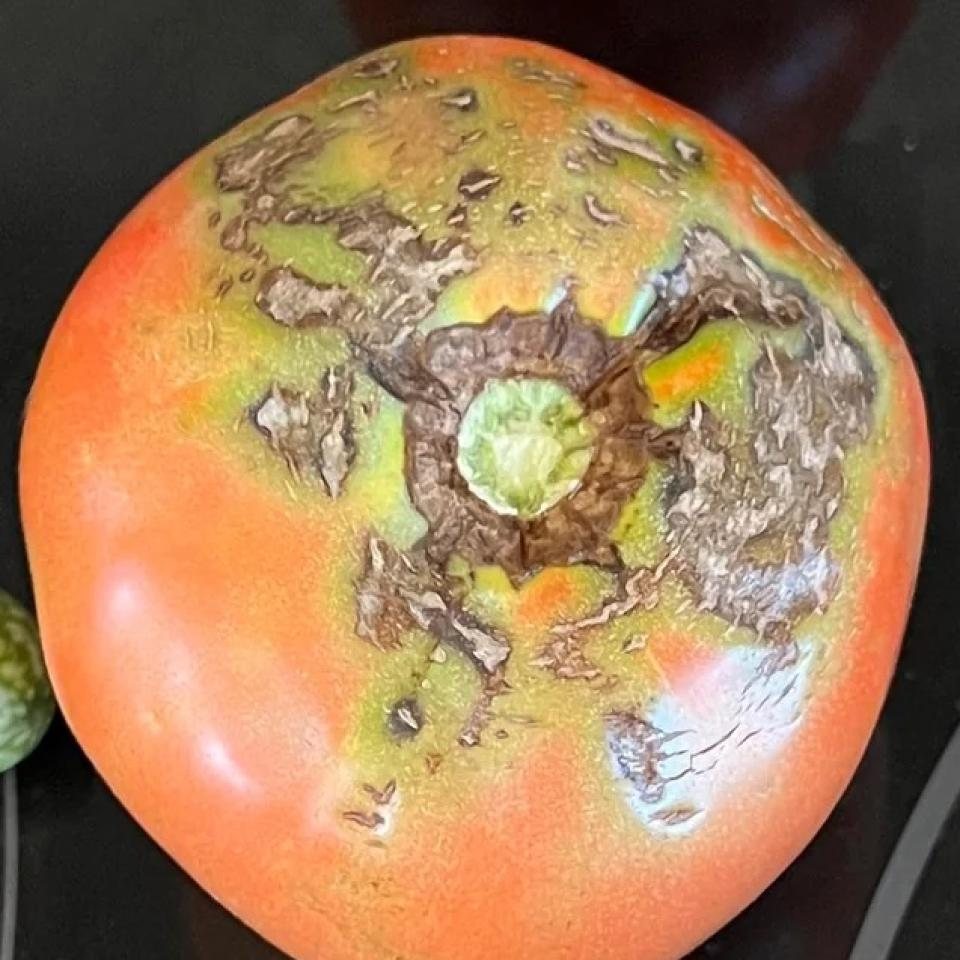Spotted wilt Virus: (24, 38, 928, 960)
